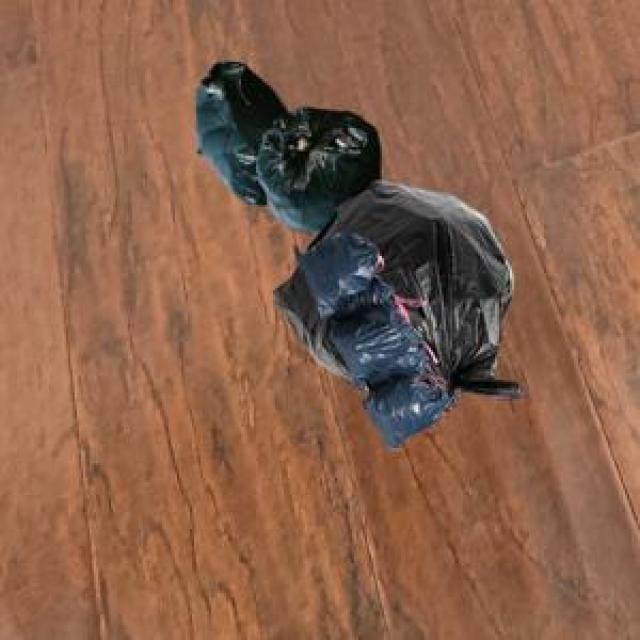miscellaneous trash: (271, 177, 518, 408), (291, 228, 444, 446), (192, 58, 376, 233)
